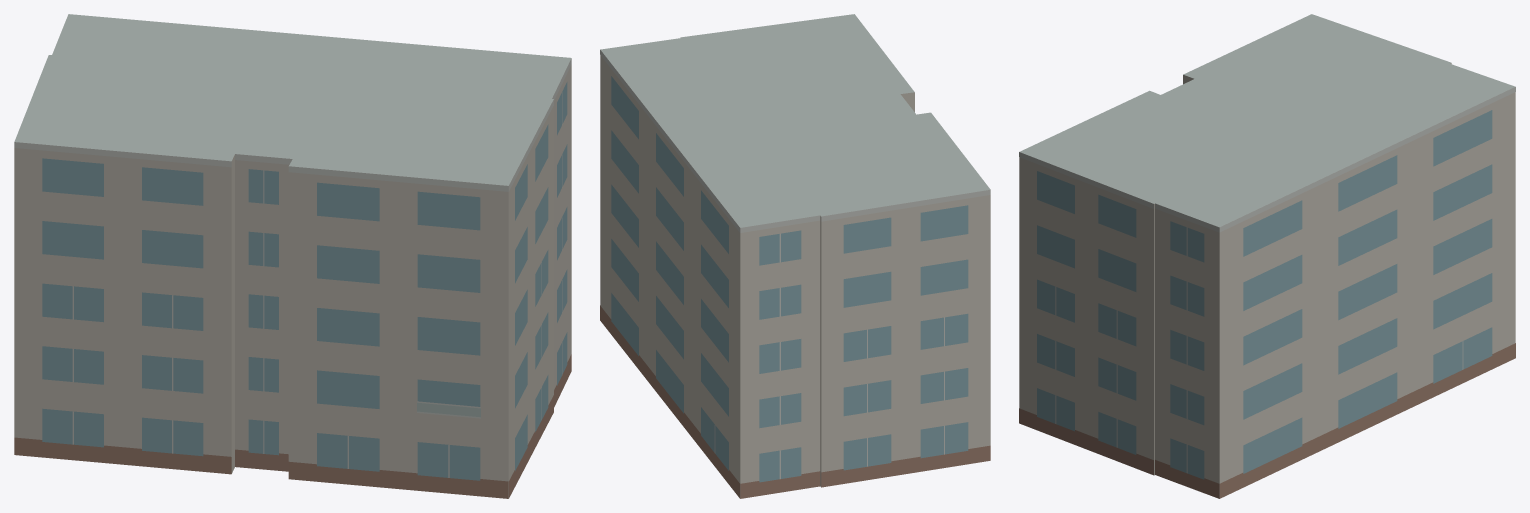
File: survey-upis-32956019.glb
The picture shows the model from 3 angles, left to right: view 1: azimuth 30°, elevation 25°; view 2: azimuth 150°, elevation 25°; view 3: azimuth 270°, elevation 25°; orthographic projection. The views are drawn at different scales.
Parts seen in each view (by area): view 1: survey-upis-32956019.tmp; view 2: survey-upis-32956019.tmp; view 3: survey-upis-32956019.tmp.
Boxes of the visible parts, x1,y1,x2,y2 form: survey-upis-32956019.tmp: (14, 14, 571, 498); survey-upis-32956019.tmp: (600, 14, 990, 498); survey-upis-32956019.tmp: (1019, 14, 1515, 498).
Bounding box in the file's own units: 21.52 × 12.76 × 21.16.
